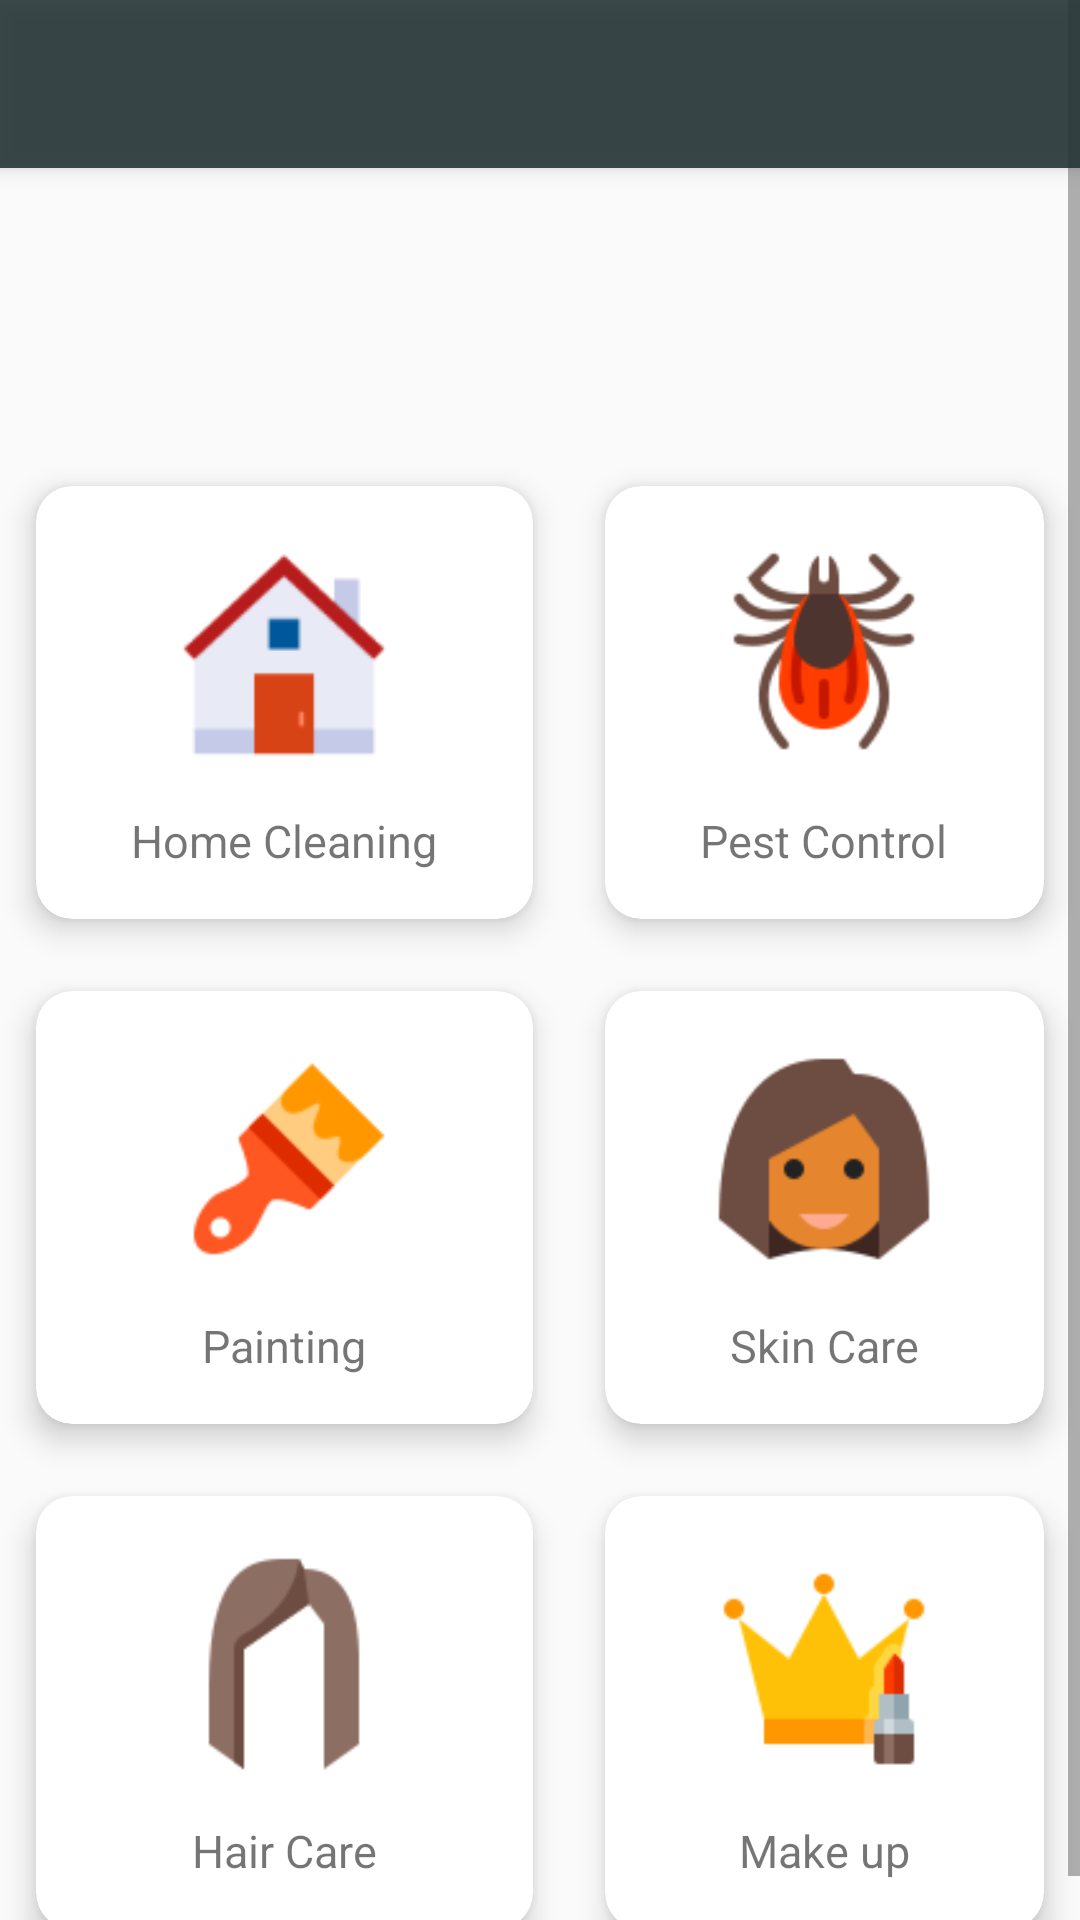

Where icons sit on this 1080*1920 app screen, as (x1, y1, x2, y2):
crownandlipstick: (723, 1573, 925, 1765)
femaleskin: (718, 1058, 930, 1260)
mite: (733, 553, 915, 750)
paintbrush: (193, 1063, 385, 1255)
womanhair: (208, 1558, 360, 1770)
